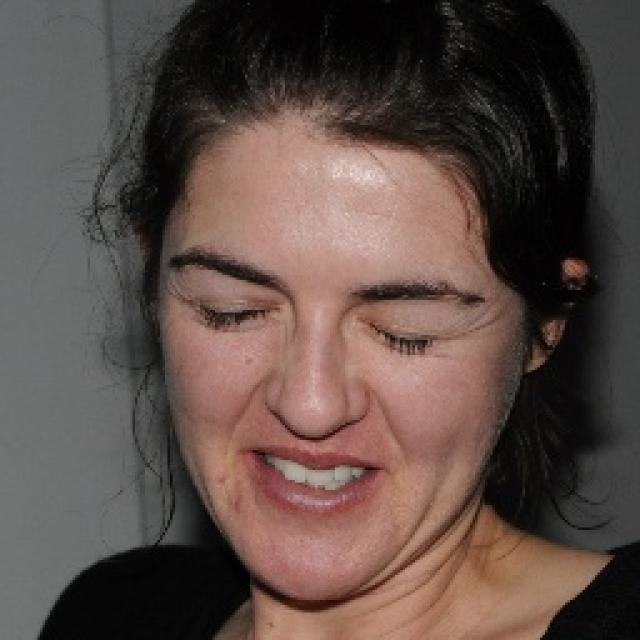earlobe: (520, 259, 588, 378)
